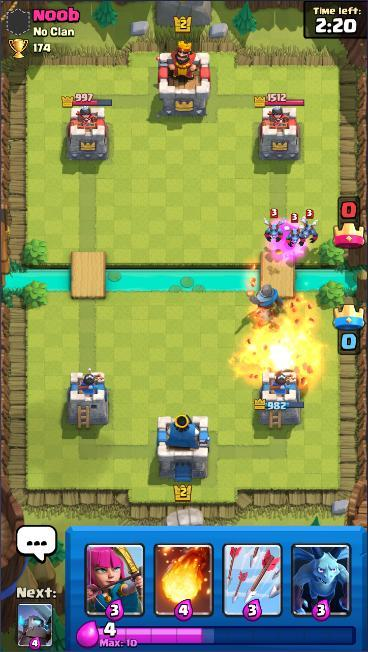ally_knight: (241, 273, 289, 316)
enemy_minion: (259, 206, 287, 244), (282, 212, 307, 248), (297, 206, 320, 245)
